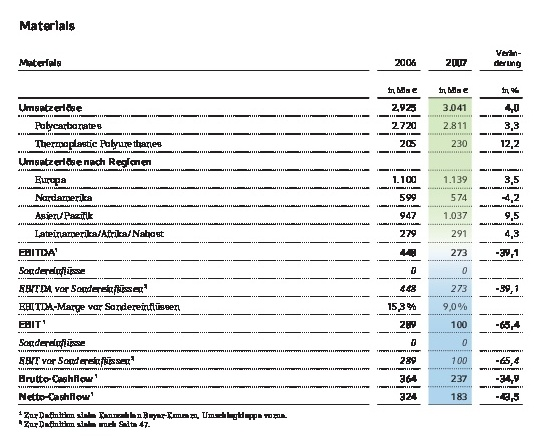table: (0, 0, 547, 437)
